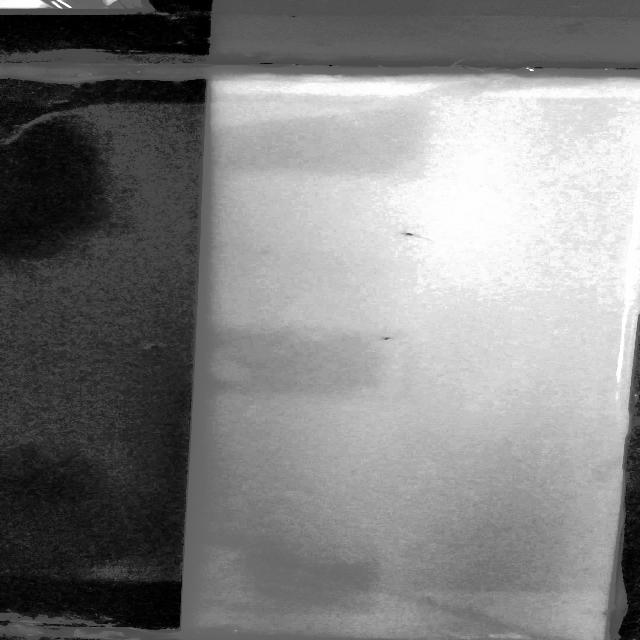shrimp: (394, 228, 435, 246), (370, 331, 402, 349)
